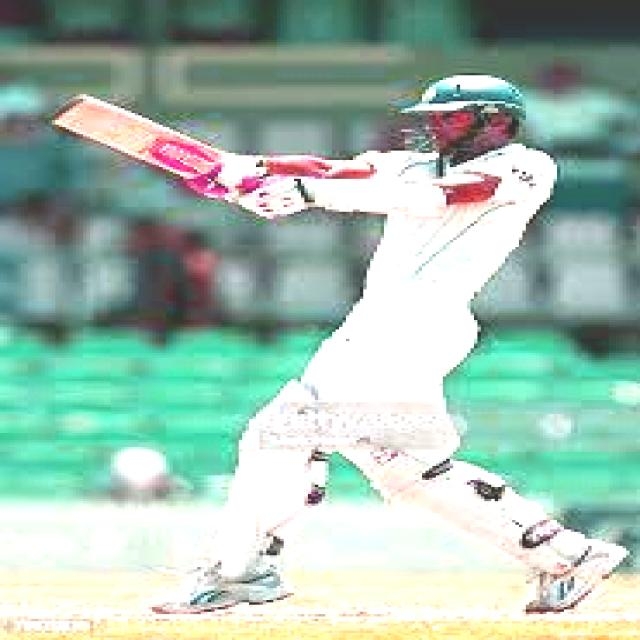toe: (30, 97, 94, 130)
